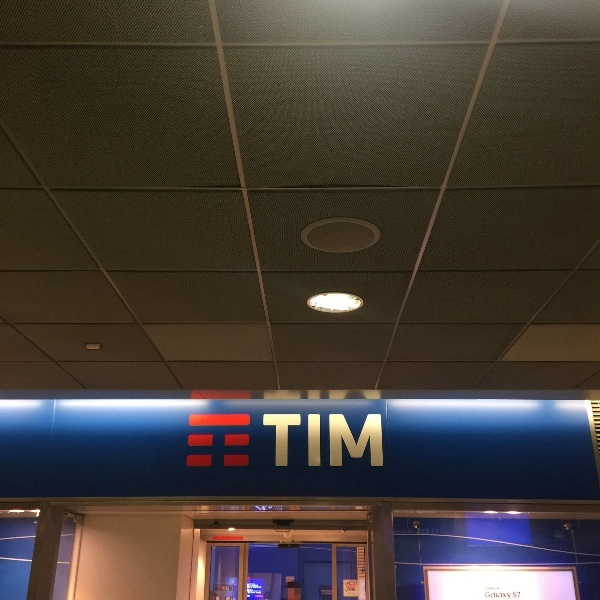text: (273, 413, 288, 468), (289, 413, 304, 468), (305, 413, 320, 468), (321, 413, 336, 468), (337, 413, 352, 468), (353, 413, 368, 468), (369, 413, 384, 468), (260, 413, 272, 468), (247, 583, 256, 599), (513, 591, 528, 599), (497, 592, 511, 600), (321, 589, 336, 596), (401, 528, 416, 535), (417, 528, 432, 535), (485, 592, 496, 600), (257, 583, 262, 599), (401, 510, 416, 515), (417, 510, 432, 515), (485, 587, 496, 591), (433, 528, 439, 535), (395, 528, 400, 535), (346, 584, 352, 589), (225, 587, 230, 592), (396, 510, 400, 515), (497, 587, 502, 591), (353, 584, 356, 589), (222, 587, 224, 592), (433, 510, 435, 515)
